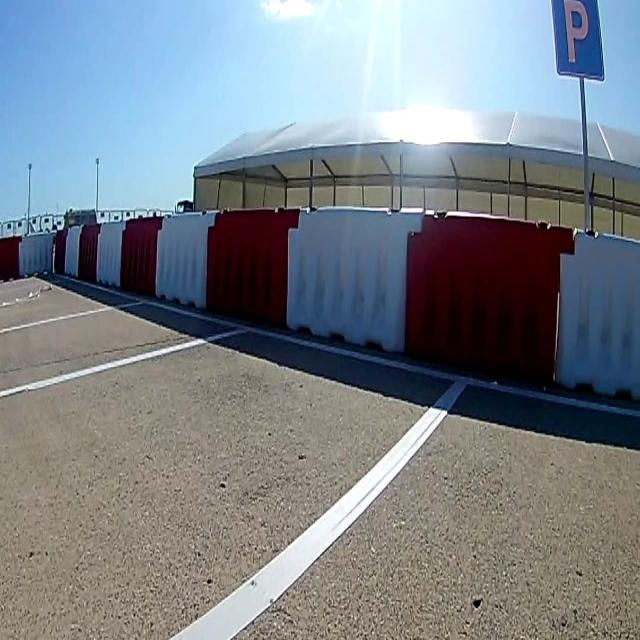park: (553, 1, 604, 80)
